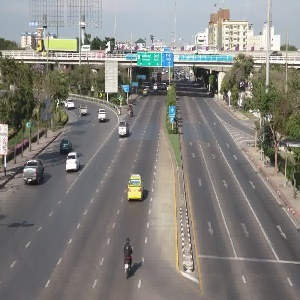car: (118, 165, 149, 205), (62, 152, 86, 172)
motorcycle: (113, 239, 146, 280)
truck: (14, 159, 47, 189)
